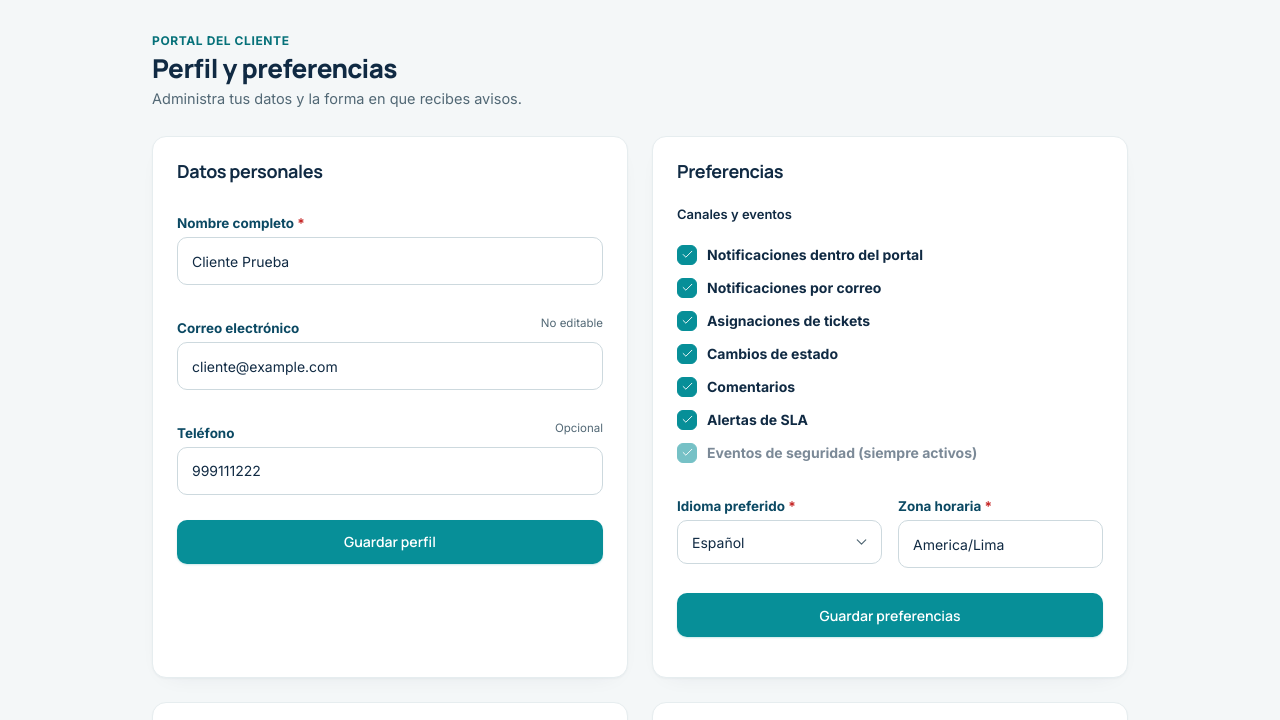
página de perfil › carga perfil y preferencias desde el backend y permite actualizar el nombre
Expected: the field showing "cliente@example.com" is disabled, 177,342 -> 603,390
Replace the text in the field labelled "Nombre completo *" with "Nombre actualizado". click: (390, 261)
box: 177,237 -> 603,285
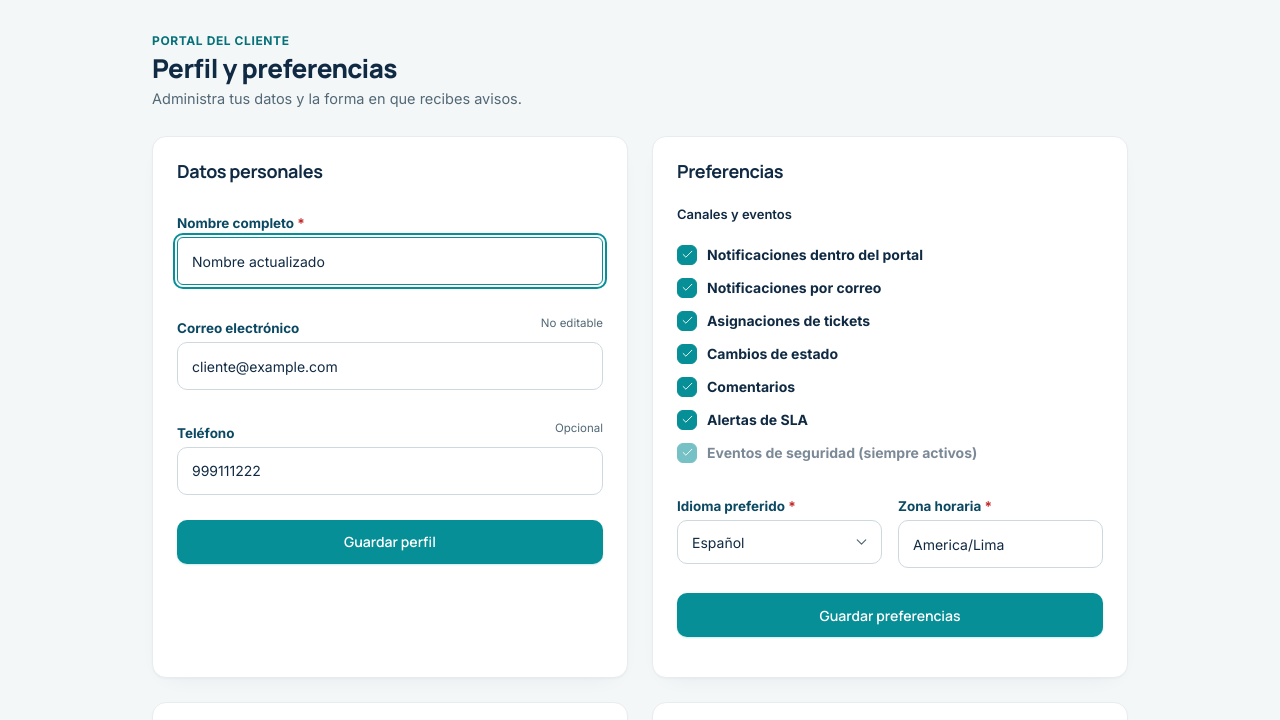
Click the button "Guardar perfil". click: (390, 542)
box: 177,520 -> 603,564
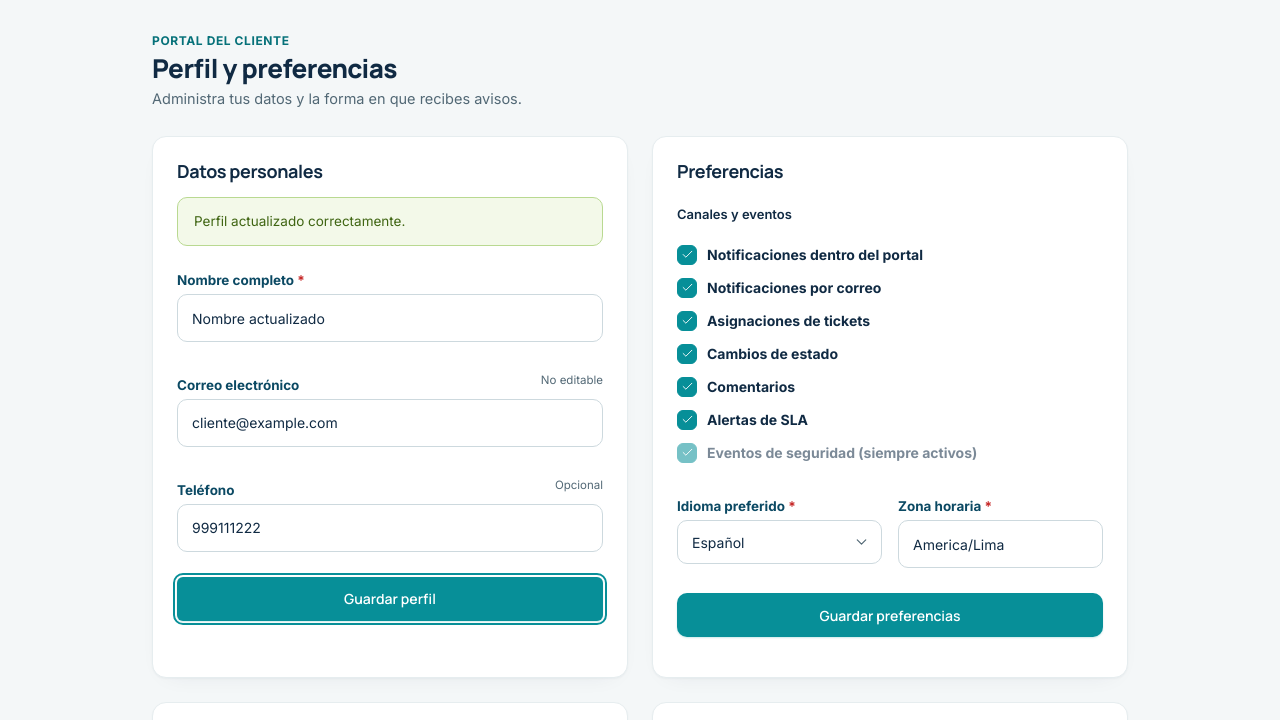
Expected: the text "Perfil actualizado correctamente." is shown, 177,197 -> 603,246
